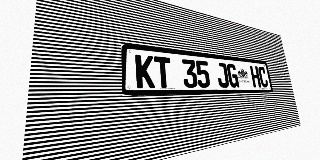3: (182, 59, 198, 88)
5: (195, 60, 211, 88)
C: (258, 66, 269, 87)
G: (226, 63, 239, 88)
H: (250, 66, 261, 87)
J: (215, 62, 229, 88)
K: (135, 54, 155, 88)
T: (154, 56, 172, 88)
